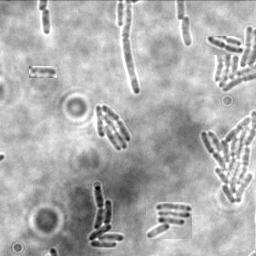Dividing: (123, 1, 142, 95), (206, 36, 244, 55), (41, 8, 52, 35)
Microcolony: (200, 109, 255, 205), (212, 25, 255, 94), (89, 184, 126, 248), (146, 202, 192, 239), (96, 103, 132, 150), (182, 16, 193, 48)
Rod: (29, 66, 57, 78)
